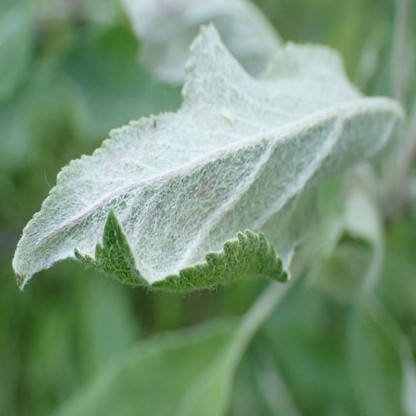powder: (12, 19, 403, 295)
